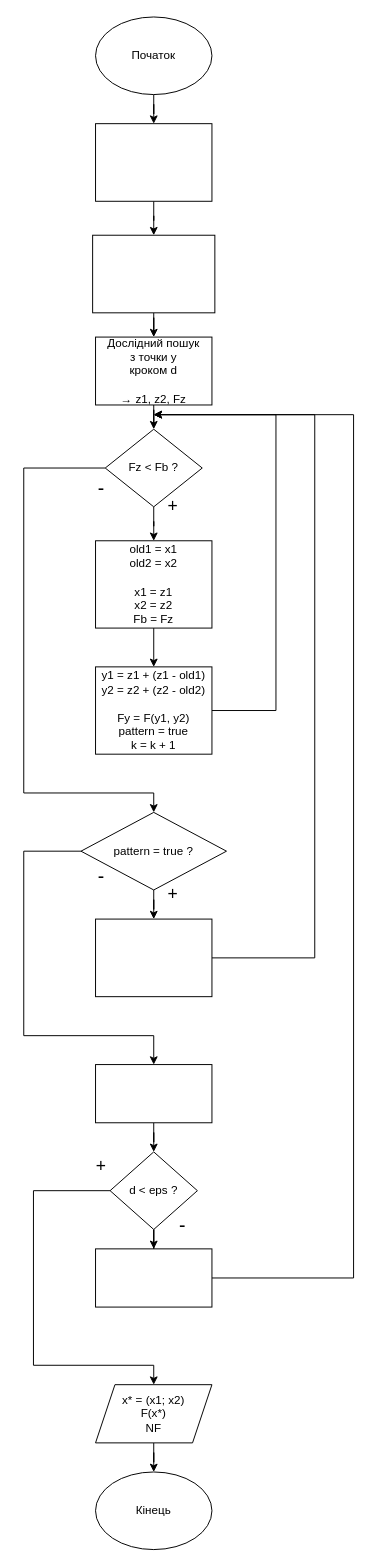
Image size: 378x1567. Some labels were removed from this diagram. Here are the shapes that lost their labels. From the top down, the centre of each, then its label:
At (x=153, y=162): "x1 = 9 x2 = 0 d = d0 eps = 0.01 k = 0".
At (x=153, y=273): "Fb = F(x1, x2) y1 = x1 y2 = x2 pattern = false".
At (x=153, y=957): "y1 = x1 y2 = x2 Fy = Fb pattern = false".
At (x=153, y=1093): "d = d / 2".
At (x=153, y=1277): "y1 = x1 y2 = x2 Fy = Fb".
